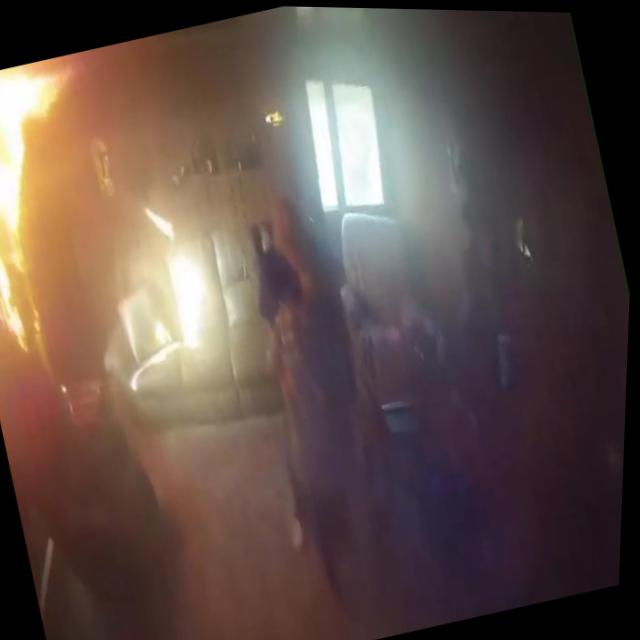fire: (0, 56, 134, 365)
